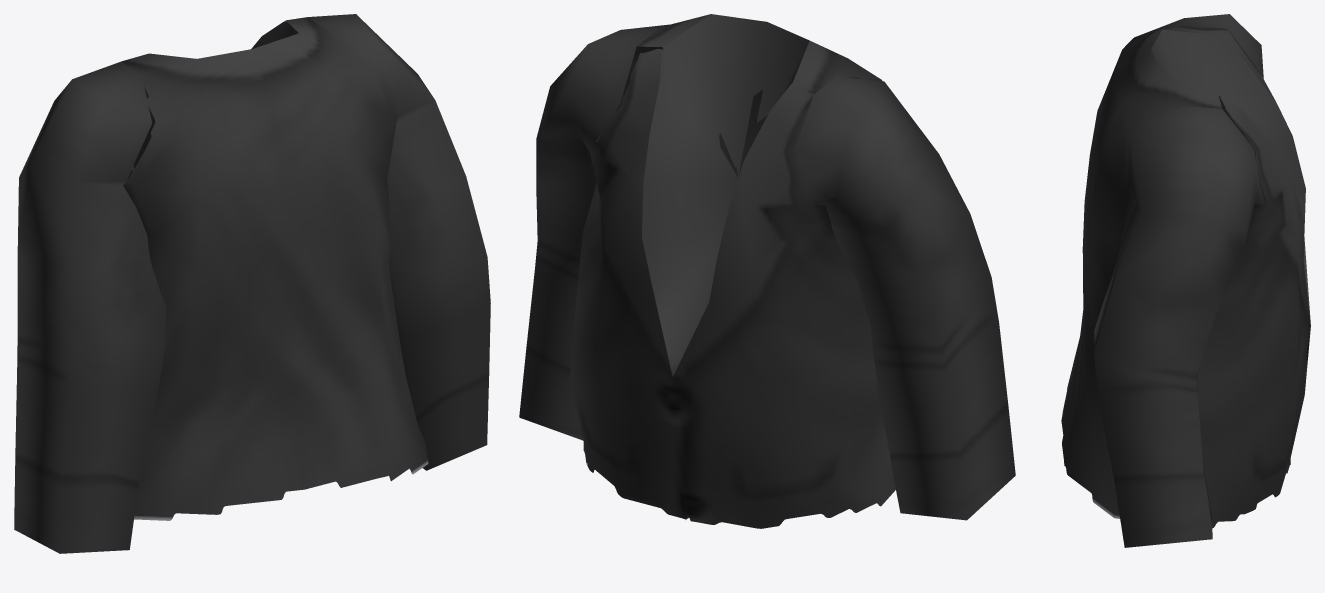
The model's file is Bob_SuitJacket.obj.
The picture shows the model from 3 angles, left to right: view 1: azimuth 30°, elevation 25°; view 2: azimuth 150°, elevation 25°; view 3: azimuth 270°, elevation 25°; orthographic projection. The views are drawn at different scales.
Visible parts, largest first — view 1: Bob_SuitJacket; view 2: Bob_SuitJacket; view 3: Bob_SuitJacket.
Part boxes in pixels (left/top/right/bottom): Bob_SuitJacket: left=14, top=14, right=490, bottom=553; Bob_SuitJacket: left=519, top=14, right=1015, bottom=528; Bob_SuitJacket: left=1061, top=14, right=1310, bottom=547.
Bounding box in the file's own units: 0.3333 × 0.3615 × 0.1908.
